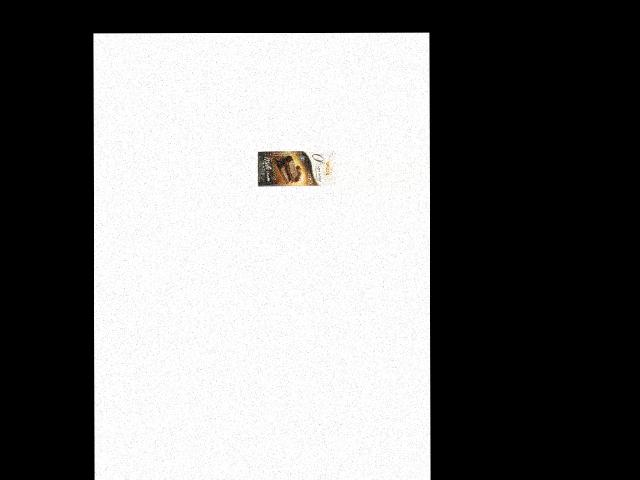chocolate: (257, 148, 335, 187)
